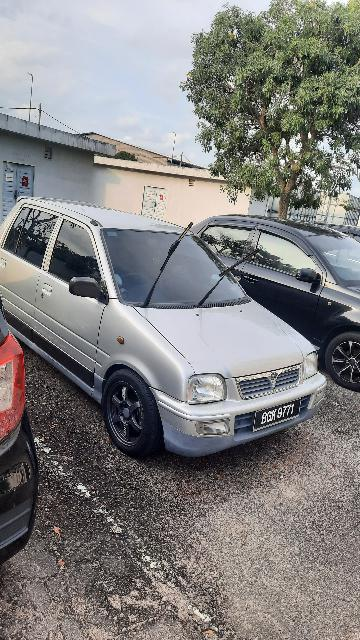License_Plate: (254, 397, 301, 433)
car: (1, 185, 333, 465), (180, 212, 360, 401)
